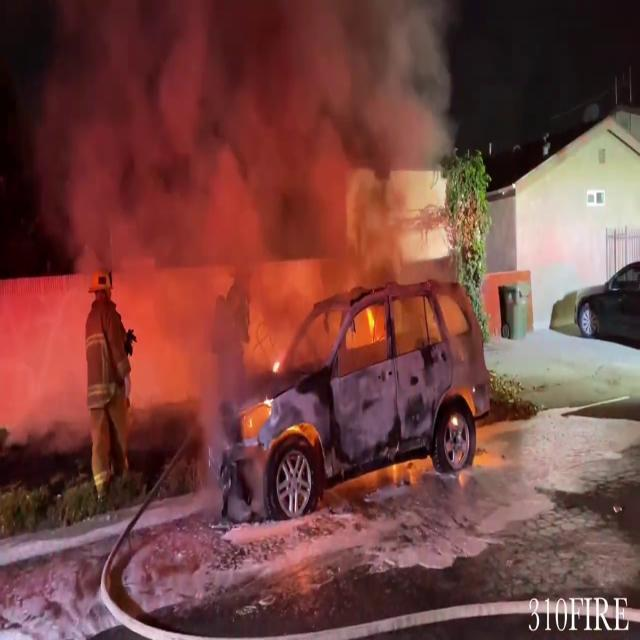Smoke: (26, 0, 472, 254)
